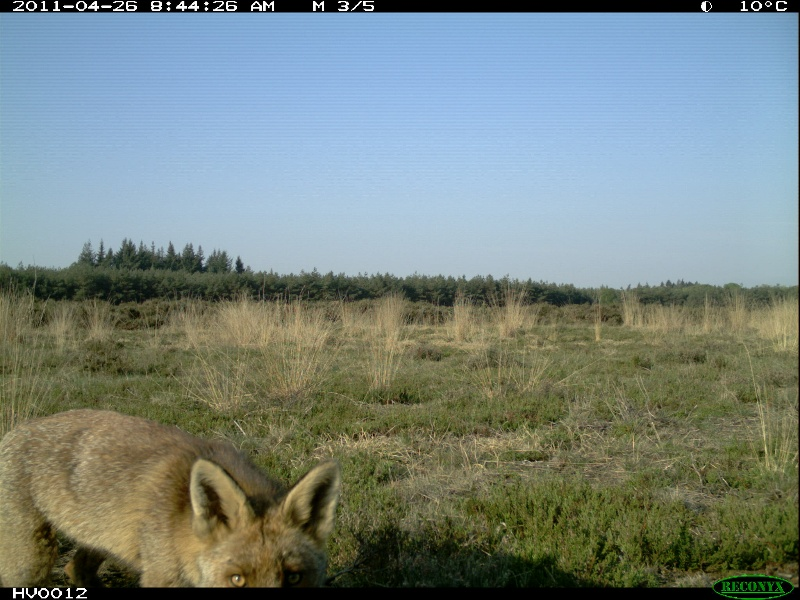fox: (2, 405, 348, 585)
